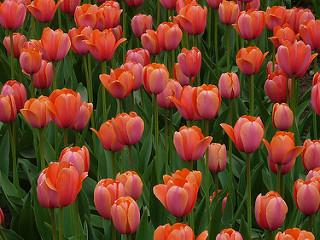tulip: (53, 160, 88, 209), (153, 179, 198, 216), (276, 39, 318, 78), (264, 128, 306, 165), (45, 88, 82, 127), (85, 27, 127, 60), (174, 126, 212, 161), (255, 190, 288, 229), (95, 178, 125, 218), (36, 26, 70, 61), (234, 114, 264, 153), (37, 161, 61, 208), (111, 111, 144, 145), (100, 67, 136, 98), (112, 196, 140, 233), (236, 45, 270, 75), (21, 95, 50, 127), (294, 179, 320, 214), (234, 10, 266, 38), (196, 83, 221, 118), (178, 4, 206, 35), (27, 0, 64, 23), (0, 0, 27, 30), (157, 20, 184, 49), (143, 62, 168, 92), (178, 46, 202, 75), (218, 71, 240, 98), (273, 102, 295, 127), (219, 0, 239, 24)
